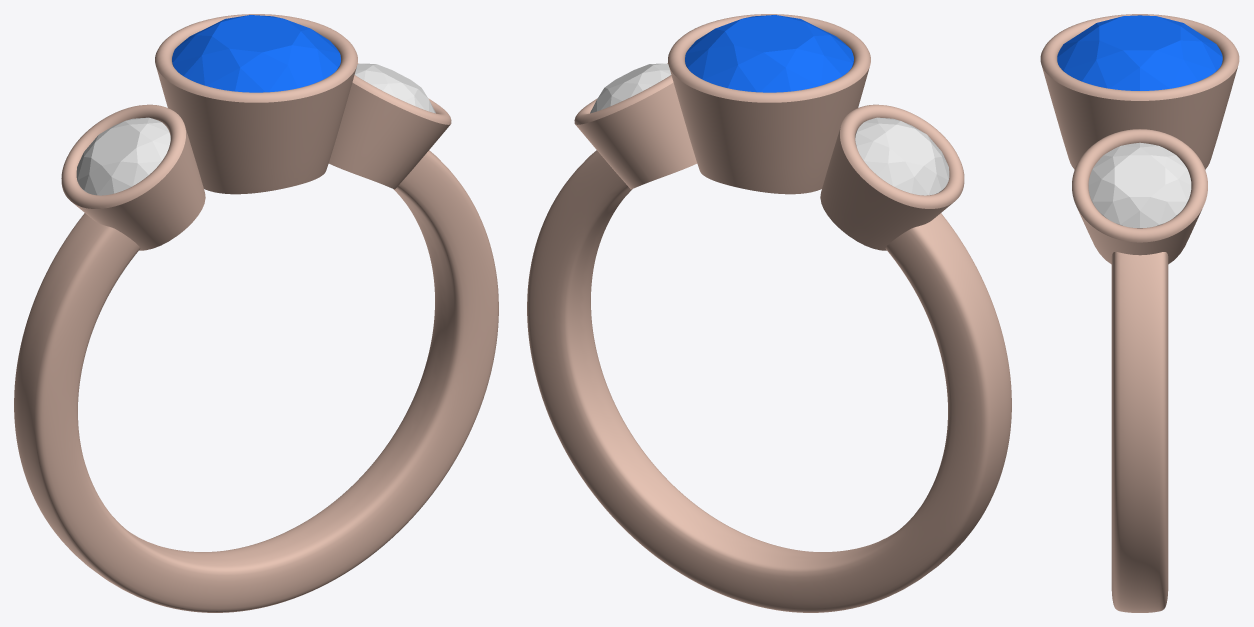
The model's file is bluesapphire-round-rosegold-bezelset-straightband-2stone.glb.
3 views of the same model, side by side, from view 1: azimuth 30°, elevation 25°; view 2: azimuth 150°, elevation 25°; view 3: azimuth 270°, elevation 25° (orthographic). The views are drawn at different scales.
Parts seen in each view (by area): view 1: metal, stone, side, side.001; view 2: metal, stone, side, side.001; view 3: metal, stone, side.001.
Boxes of the visible parts, x1,y1,x2,y2 form: metal: (14,14,498,612); stone: (172,15,340,92); side: (76,117,170,195); side.001: (354,63,435,113); metal: (527,14,1011,612); stone: (685,15,853,92); side: (855,117,949,195); side.001: (590,63,671,113); metal: (1040,14,1239,612); stone: (1057,15,1222,90); side.001: (1088,142,1191,228).
Bounding box in the file's own units: 20.51 × 23.81 × 7.74.
